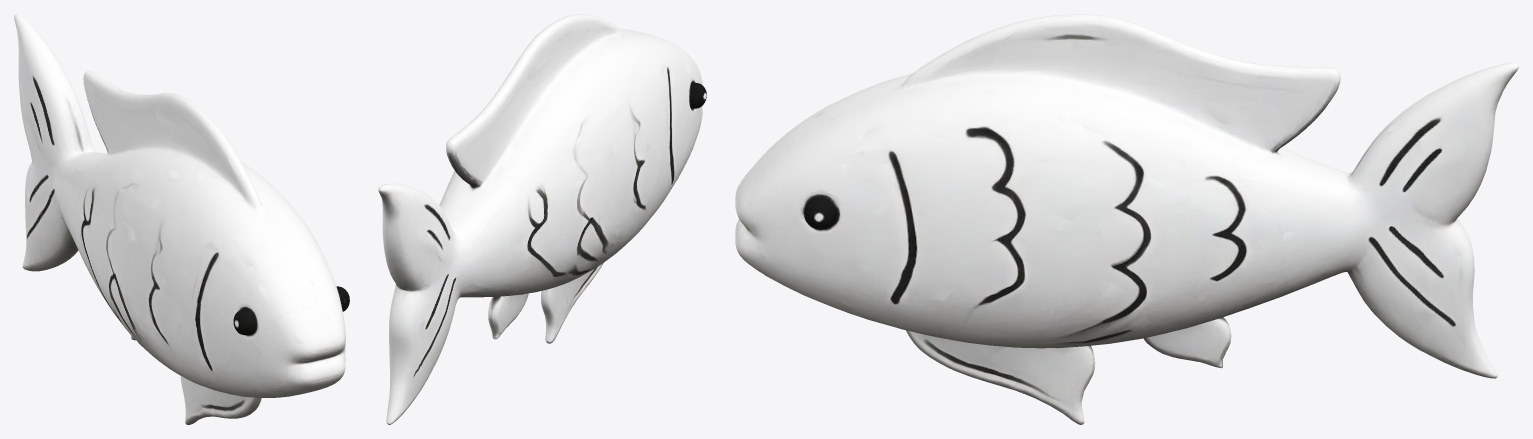
File: carp.glb
The picture shows the model from 3 angles, left to right: view 1: azimuth 30°, elevation 25°; view 2: azimuth 150°, elevation 25°; view 3: azimuth 270°, elevation 25°; orthographic projection. The views are drawn at different scales.
Visible parts, largest first — view 1: model; view 2: model; view 3: model.
Part boxes in pixels (x1=…): model: x1=14, y1=14, x2=349, y2=424; model: x1=378, y1=14, x2=706, y2=424; model: x1=735, y1=14, x2=1518, y2=424.
Size of the model in its own units: 0.4549 by 1.1 by 1.91.
1 material, 1 textured.
